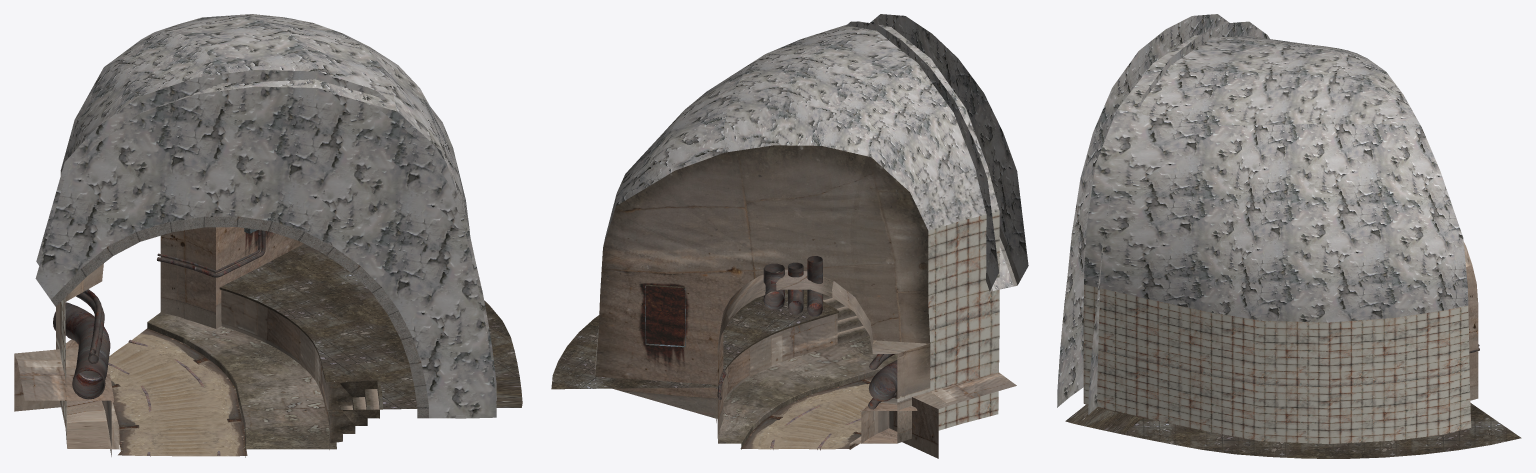
File: FBX_corner_section_b_rev.fbx
3 views of the same model, side by side, from view 1: azimuth 30°, elevation 25°; view 2: azimuth 150°, elevation 25°; view 3: azimuth 270°, elevation 25° (orthographic). The views are drawn at different scales.
Parts seen in each view (by area): view 1: corner_section_b_arch_2, corner_section_b_ceiling, corner_section_b_upperLevel_floor, corner_section_b_ground, corner_section_b_lower_floor_1, corner_section_b_arch_1, corner_section_b_arch_2_bricks, corner_section_b_shelf_b, corner_section_b_sideWall, corner_section_b_drain_pipe_a, corner_section_b_steps, corner_section_b_lower_floor_2 (+3 smaller); view 2: corner_section_b_arch_1, corner_section_b_ceiling, corner_section_b_tile_wall, corner_section_b_arch_2, corner_section_b_lower_floor_1, corner_section_b_upperLevel_floor, corner_section_b_ground, corner_section_b_sideWall, corner_section_b_shelf_b, corner_section_b_shelf_a, corner_section_b_steps, corner_section_b_drain_pipe_a (+4 smaller); view 3: corner_section_b_ceiling, corner_section_b_tile_wall, corner_section_b_arch_2, corner_section_b_upperLevel_floor, corner_section_b_arch_1, corner_section_b_upperLevel_floor_b.
Part boxes in pixels (box(x1,y1,x2,y2)): corner_section_b_arch_2: box(35, 70, 496, 418); corner_section_b_ceiling: box(60, 14, 471, 260); corner_section_b_upperLevel_floor: box(219, 244, 519, 382); corner_section_b_ground: box(108, 328, 247, 456); corner_section_b_lower_floor_1: box(147, 312, 336, 457); corner_section_b_arch_1: box(56, 227, 303, 408); corner_section_b_arch_2_bricks: box(51, 216, 428, 418); corner_section_b_shelf_b: box(14, 347, 114, 456); corner_section_b_sideWall: box(221, 290, 328, 420); corner_section_b_drain_pipe_a: box(53, 302, 110, 399); corner_section_b_steps: box(326, 380, 383, 449); corner_section_b_lower_floor_2: box(66, 400, 119, 449); corner_section_b_arch_1: box(595, 145, 930, 443); corner_section_b_ceiling: box(603, 21, 999, 245); corner_section_b_tile_wall: box(595, 211, 999, 430); corner_section_b_arch_2: box(845, 14, 1028, 290); corner_section_b_lower_floor_1: box(718, 336, 897, 449); corner_section_b_upperLevel_floor: box(551, 289, 838, 389); corner_section_b_ground: box(740, 375, 874, 449); corner_section_b_sideWall: box(716, 313, 837, 422); corner_section_b_shelf_b: box(889, 372, 1016, 458); corner_section_b_shelf_a: box(860, 398, 917, 443); corner_section_b_steps: box(823, 294, 869, 343); corner_section_b_drain_pipe_a: box(868, 360, 897, 401); corner_section_b_ceiling: box(1084, 35, 1468, 322); corner_section_b_tile_wall: box(1083, 284, 1471, 443); corner_section_b_arch_2: box(1057, 14, 1269, 414); corner_section_b_upperLevel_floor: box(1124, 403, 1521, 458); corner_section_b_arch_1: box(1463, 242, 1478, 400); corner_section_b_upperLevel_floor_b: box(1065, 404, 1142, 434).
Size of the model in its own units: 8.71 by 6.86 by 8.4.
